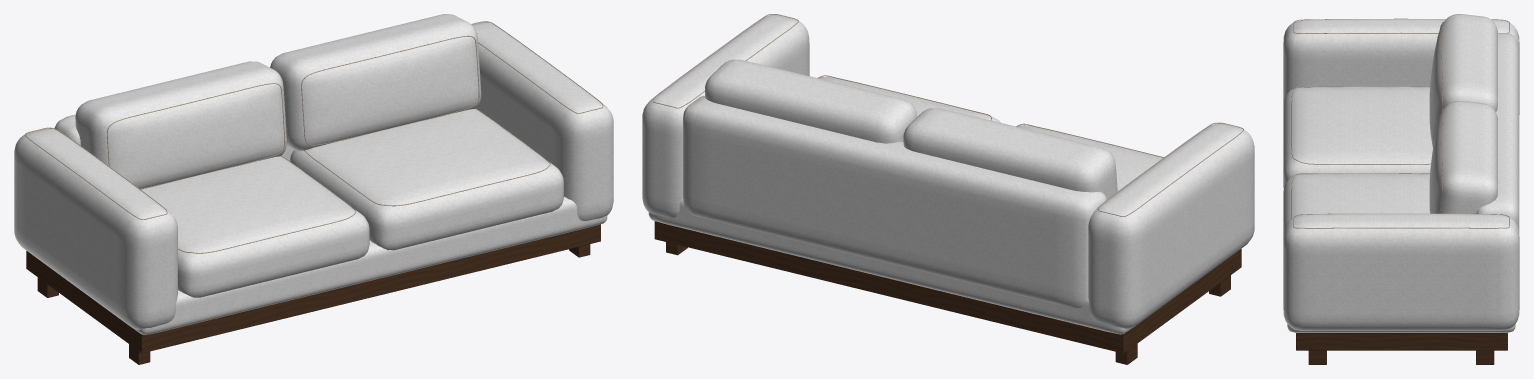
Rendered from arc-compact.glb.
The picture shows the model from 3 angles, left to right: view 1: azimuth 30°, elevation 25°; view 2: azimuth 150°, elevation 25°; view 3: azimuth 270°, elevation 25°; orthographic projection. The views are drawn at different scales.
Visible parts, largest first — view 1: Seat panel 2 | crowned top, Tailored arm | left, Seat panel 1 | crowned top, Back cushion 2 | tensioned face, Back cushion 1 | tensioned face, Tailored arm | right, Upholstered support platform, Walnut | long rail, Walnut | return rail, Back cushion 2 | tensioned face | inset welt, Back cushion 1 | tensioned face | inset welt, Continuous upholstered rear rail; view 2: Continuous upholstered rear rail, Tailored arm | left, Back cushion 1 | tensioned face, Tailored arm | right, Back cushion 2 | tensioned face, Walnut | long rail.001, Upholstered support platform, Walnut | return rail, Seat panel 1 | crowned top, Seat panel 2 | crowned top; view 3: Tailored arm | right, Seat panel 1 | crowned top, Tailored arm | left, Back cushion 2 | tensioned face, Seat panel 2 | crowned top, Back cushion 1 | tensioned face, Continuous upholstered rear rail, Walnut | return rail.001, Tailored arm | right | inset welt, Upholstered support platform, Seat panel 1 | crowned top | inset welt, Walnut | long rail (+5 smaller).
Boxes of the visible parts, <box> form: Seat panel 2 | crowned top: <box>289,109,563,250</box>; Tailored arm | left: <box>14,128,177,329</box>; Seat panel 1 | crowned top: <box>141,156,369,297</box>; Back cushion 2 | tensioned face: <box>270,14,481,150</box>; Back cushion 1 | tensioned face: <box>75,61,286,188</box>; Tailored arm | right: <box>472,22,613,221</box>; Upholstered support platform: <box>133,196,607,335</box>; Walnut | long rail: <box>131,224,600,353</box>; Walnut | return rail: <box>31,254,136,349</box>; Back cushion 2 | tensioned face | inset welt: <box>301,35,479,145</box>; Back cushion 1 | tensioned face | inset welt: <box>107,83,285,189</box>; Continuous upholstered rear rail: <box>54,67,294,160</box>; Continuous upholstered rear rail: <box>683,96,1106,308</box>; Tailored arm | left: <box>1088,123,1254,329</box>; Back cushion 1 | tensioned face: <box>903,108,1117,199</box>; Tailored arm | right: <box>642,14,809,217</box>; Back cushion 2 | tensioned face: <box>705,59,917,143</box>; Walnut | long rail.001: <box>654,221,1129,353</box>; Upholstered support platform: <box>648,199,1133,334</box>; Walnut | return rail: <box>1129,252,1237,349</box>; Seat panel 1 | crowned top: <box>1017,125,1163,191</box>; Seat panel 2 | crowned top: <box>819,76,1000,122</box>; Tailored arm | right: <box>1283,213,1519,330</box>; Seat panel 1 | crowned top: <box>1283,86,1432,187</box>; Tailored arm | left: <box>1283,19,1519,114</box>; Back cushion 2 | tensioned face: <box>1429,101,1497,213</box>; Seat panel 2 | crowned top: <box>1283,173,1429,236</box>; Back cushion 1 | tensioned face: <box>1429,14,1497,147</box>; Continuous upholstered rear rail: <box>1476,33,1519,230</box>; Walnut | return rail.001: <box>1304,333,1498,350</box>; Tailored arm | right | inset welt: <box>1293,213,1509,228</box>; Upholstered support platform: <box>1287,324,1515,332</box>; Seat panel 1 | crowned top | inset welt: <box>1291,86,1430,164</box>; Walnut | long rail: <box>1296,333,1315,350</box>.
Bounding box in the file's own units: 2.24 × 0.8169 × 1.03.
Materials: 4 (2 with a texture image).
